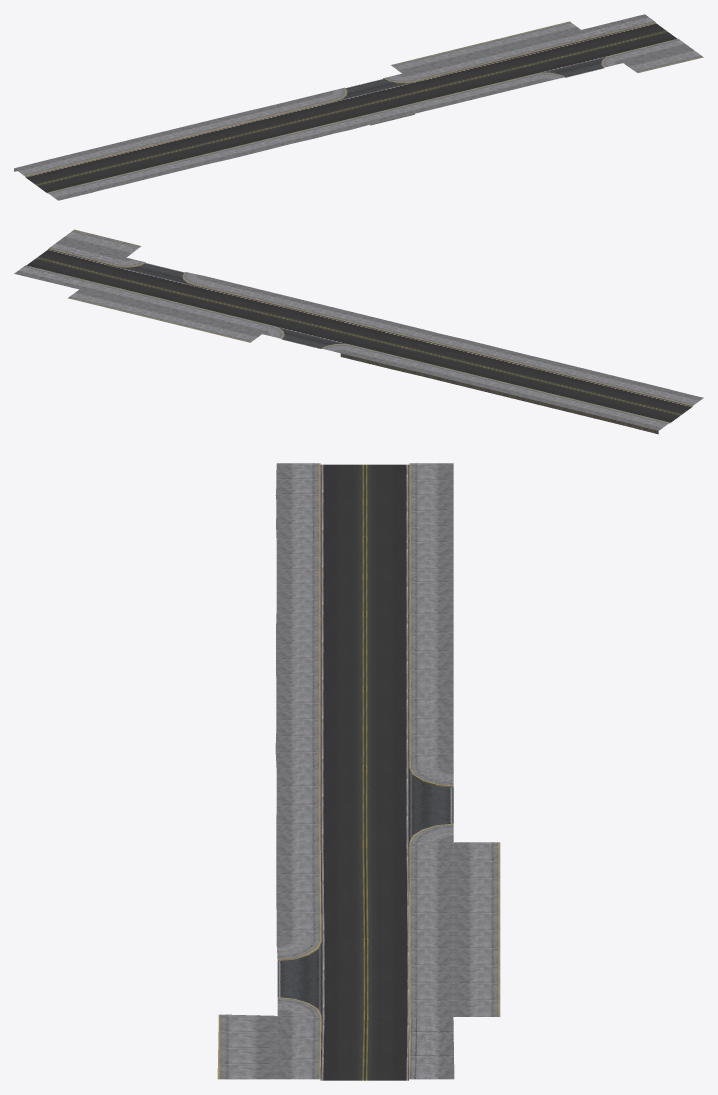
File: lawroads_law23.obj
The picture shows the model from 3 angles, top to bottom: view 1: azimuth 30°, elevation 25°; view 2: azimuth 150°, elevation 25°; view 3: azimuth 270°, elevation 25°; orthographic projection. The views are drawn at different scales.
Parts seen in each view (by area): view 1: lawroads_law23; view 2: lawroads_law23; view 3: lawroads_law23.
Boxes of the visible parts, left/top/right/bottom form: lawroads_law23: left=14, top=14, right=703, bottom=200; lawroads_law23: left=14, top=229, right=703, bottom=434; lawroads_law23: left=217, top=463, right=500, bottom=1080.
Bounding box in the file's own units: 165 × 0.9575 × 31.95.
